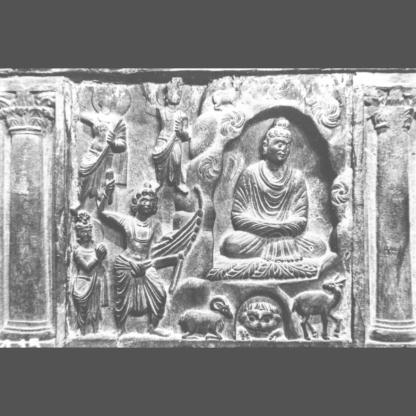buddha-sitting: (207, 118, 328, 281)
